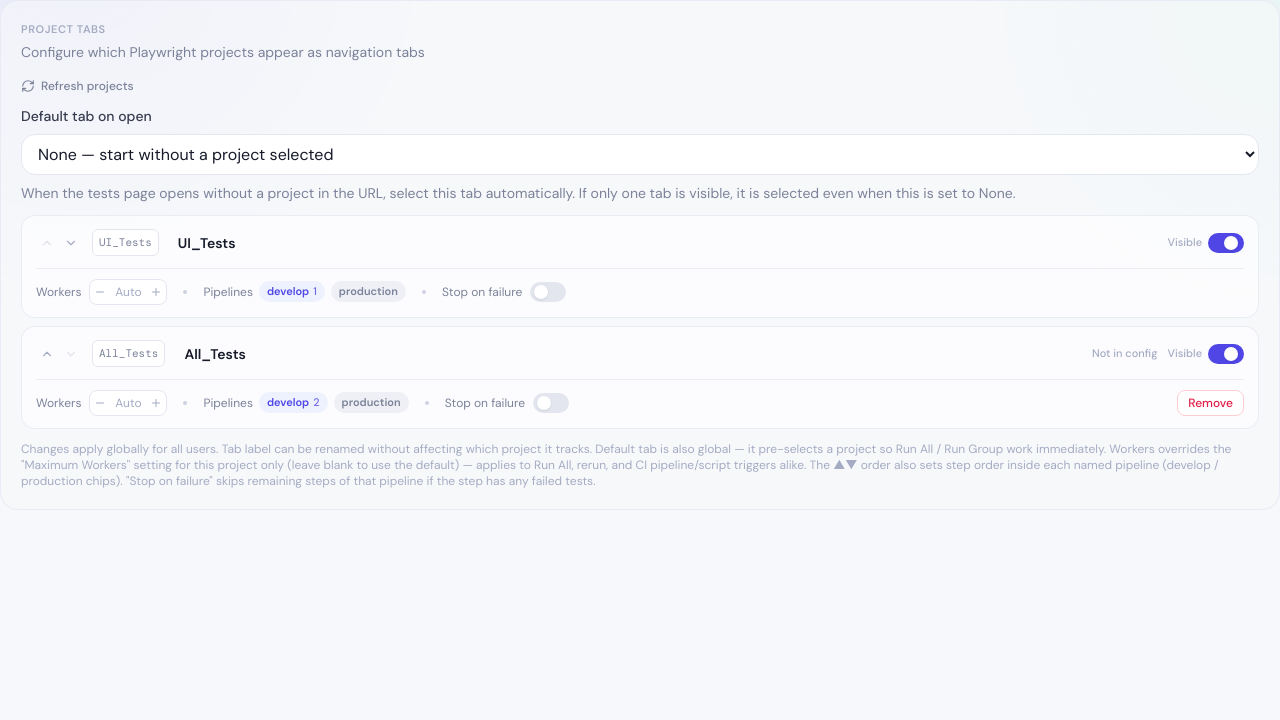
Scenario: SettingsProjectTabsSection - removing stale tabs › Cancel restores the Remove button and saves nothing
Click the button with aria-label "Remove stale tab All_Tests": (1211, 402) [1177,390,1244,416]
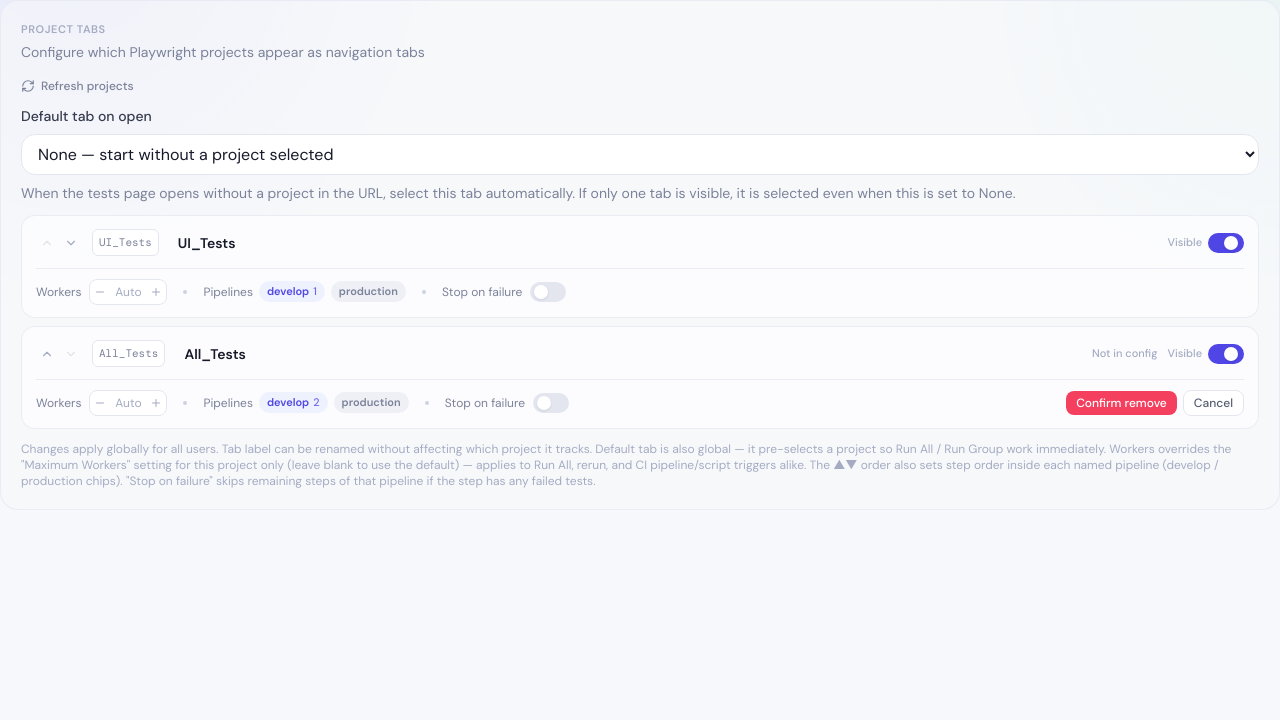
Click the button with aria-label "Cancel remove All_Tests": (1213, 402) [1183,390,1244,416]
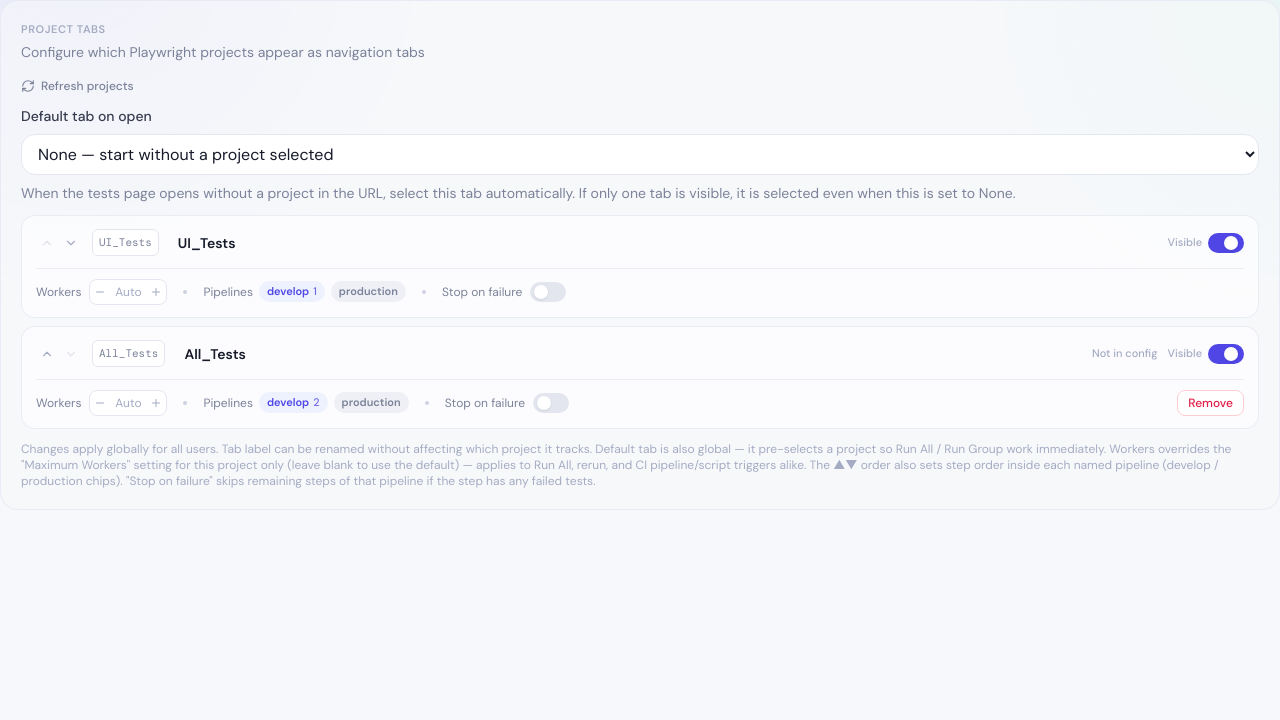
Check: the field showing "All_Tests" next to "Not in config" is shown, box [175,338,1082,368]
Check: the button with aria-label "Remove stale tab All_Tests" is shown, box [1177,390,1244,416]
